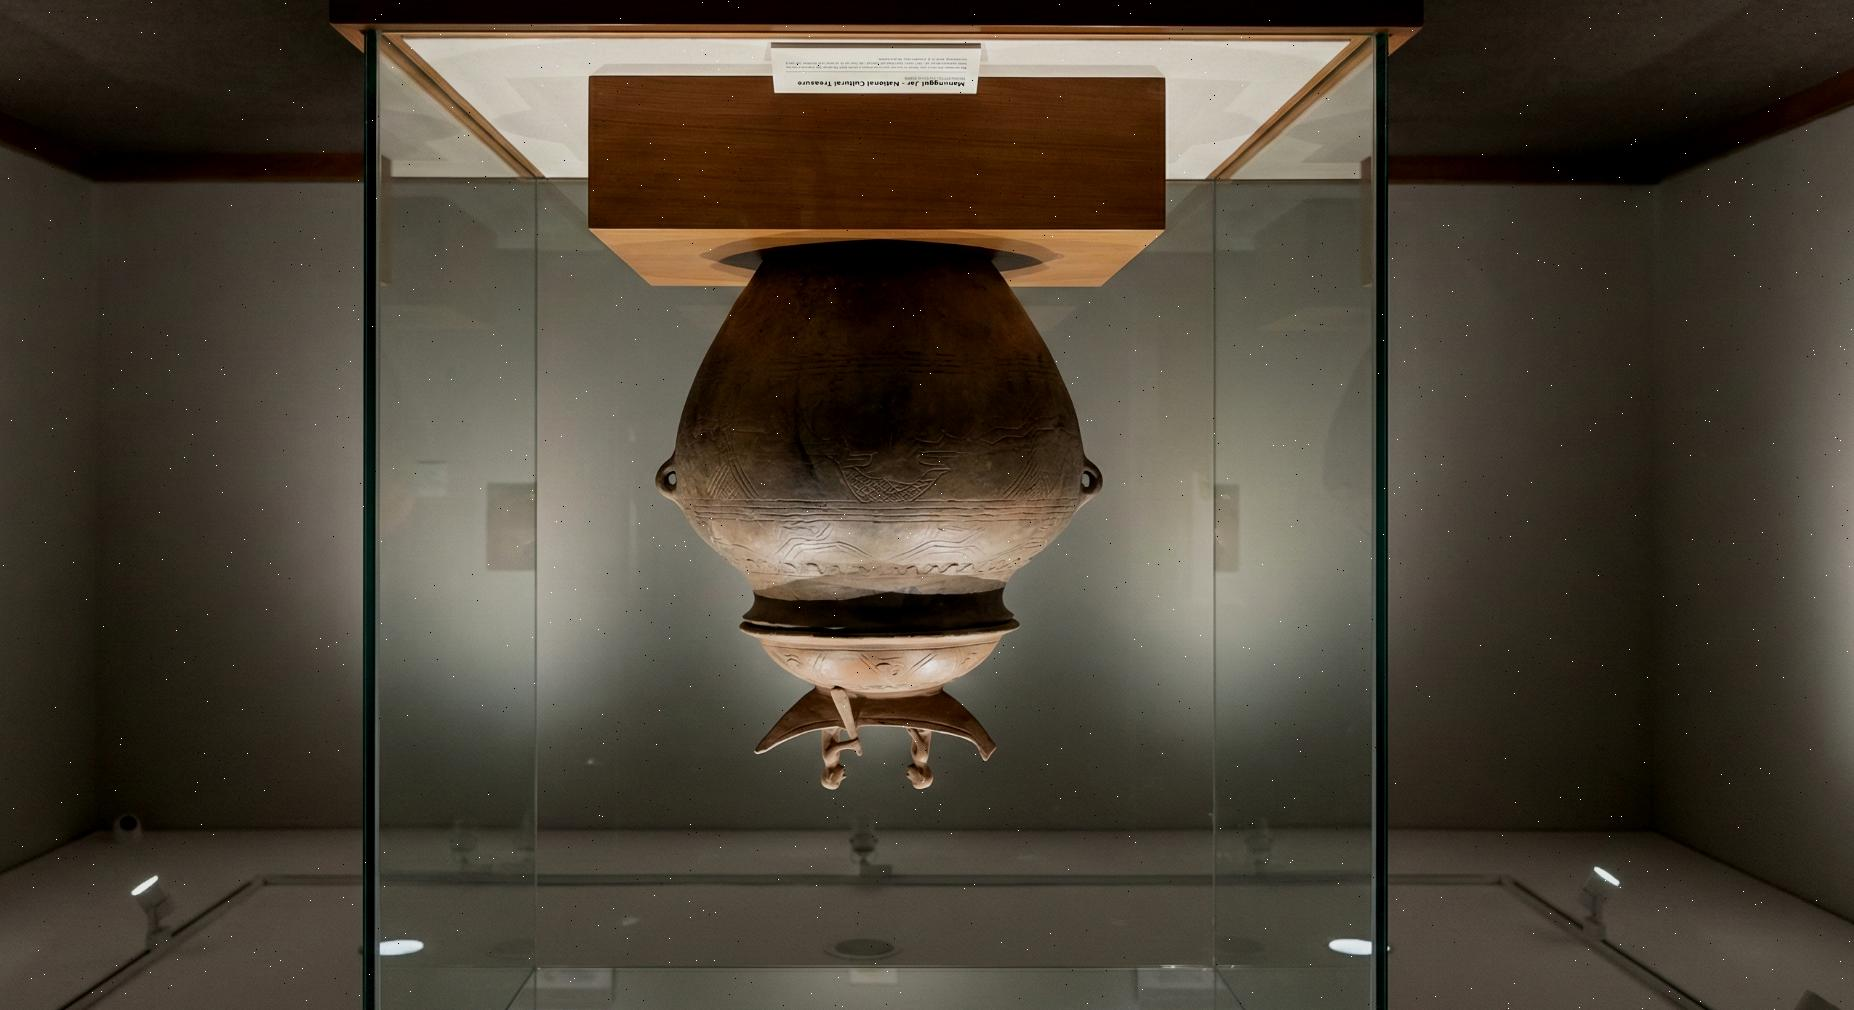manunggul_jar: (645, 239, 1112, 801)
